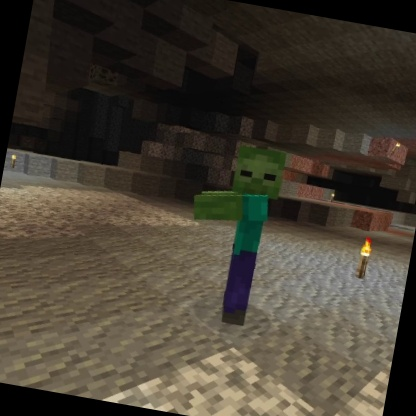zombie: (168, 133, 293, 333)
